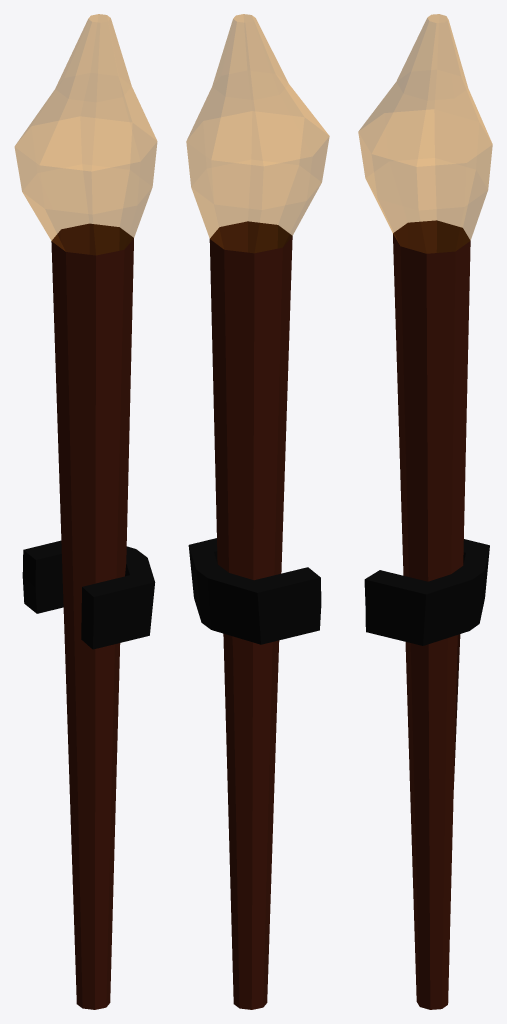
The model's file is Torch.fbx.
The picture shows the model from 3 angles, left to right: view 1: azimuth 30°, elevation 25°; view 2: azimuth 210°, elevation 25°; view 3: azimuth 330°, elevation 25°; orthographic projection.
Visible parts, largest first — view 1: Torch; view 2: Torch; view 3: Torch.
Boxes of the visible parts, x1,y1,x2,y2 form: Torch: [14, 14, 157, 1009]; Torch: [186, 14, 329, 1009]; Torch: [358, 14, 492, 1009].
Bounding box in the file's own units: 0.2686 × 2.22 × 0.2711.
